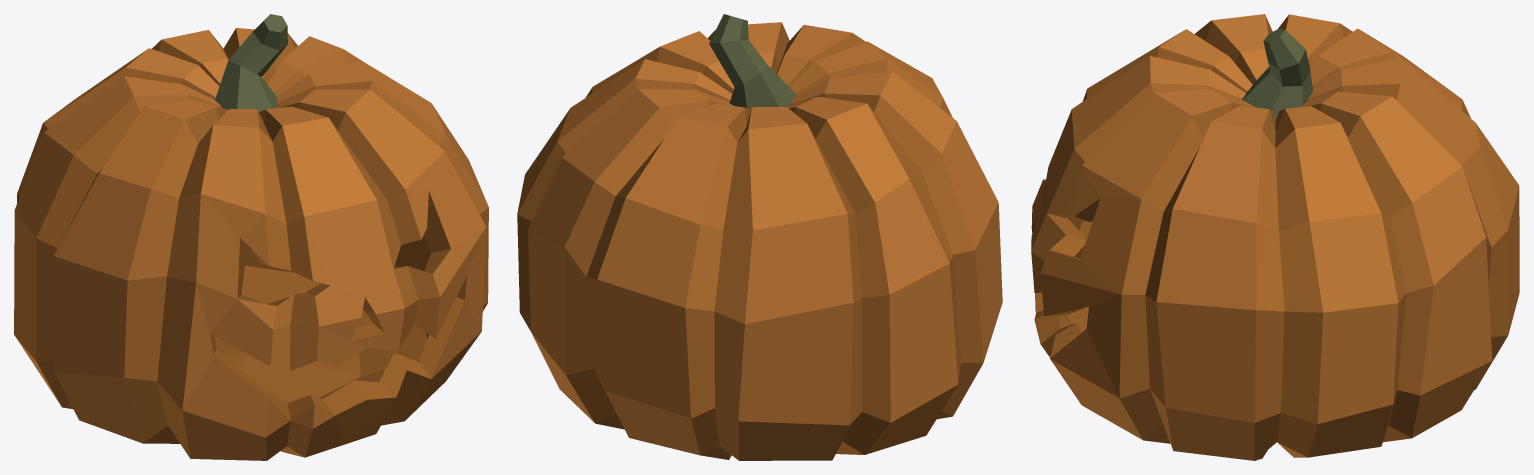
Rendered from Pumpkin_02.fbx.
3 views of the same model, side by side, from view 1: azimuth 30°, elevation 25°; view 2: azimuth 150°, elevation 25°; view 3: azimuth 270°, elevation 25° (orthographic). The views are drawn at different scales.
Parts seen in each view (by area): view 1: Pumpkin_02; view 2: Pumpkin_02; view 3: Pumpkin_02.
Part boxes in pixels (<box>): Pumpkin_02: <box>14,14,488,460</box>; Pumpkin_02: <box>517,14,1002,460</box>; Pumpkin_02: <box>1031,14,1519,460</box>.
Size of the model in its own units: 0.5054 by 0.4424 by 0.4963.
